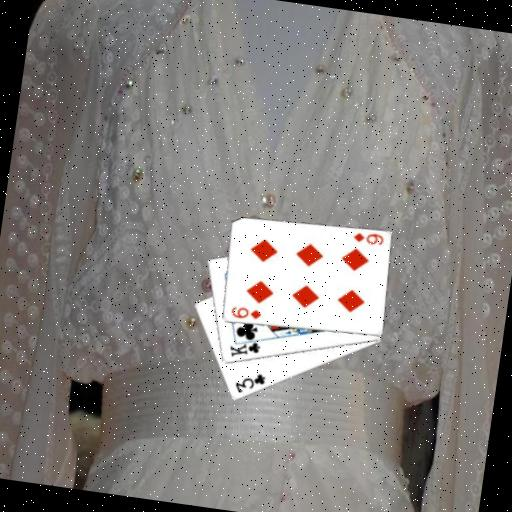3C: (231, 367, 268, 398)
6D: (227, 303, 263, 323), (350, 228, 386, 248)
KC: (226, 331, 264, 362)
